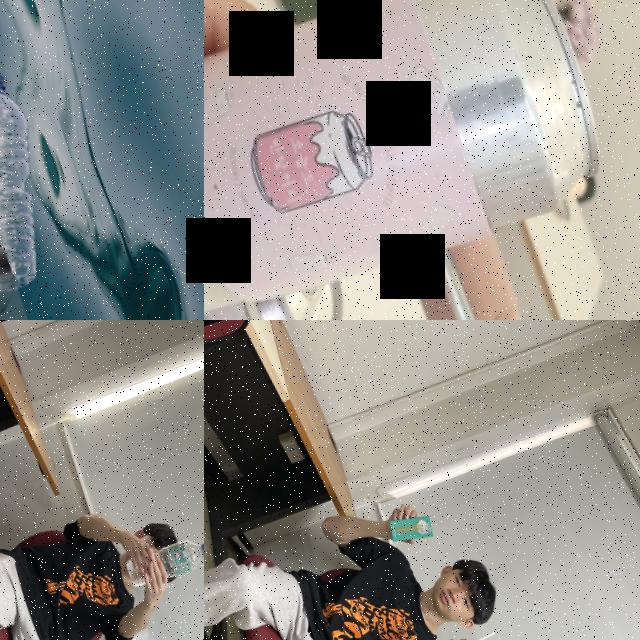bottle: (0, 63, 79, 310), (122, 533, 204, 591)
can: (204, 0, 616, 320)
